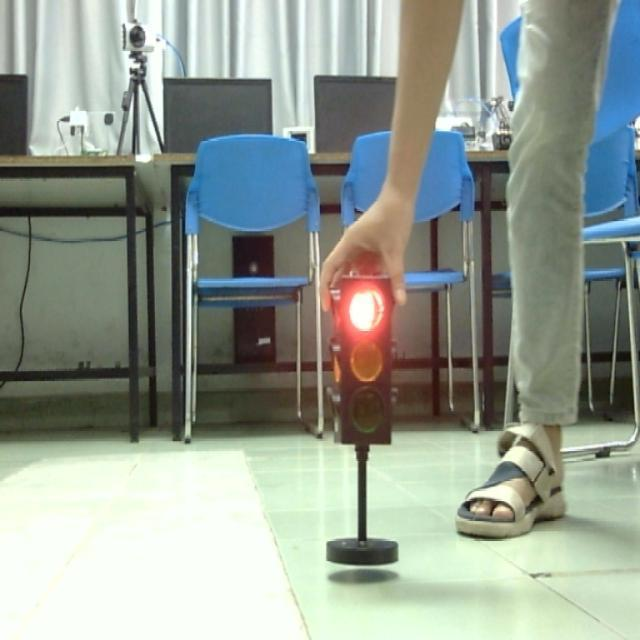red_light: (330, 266, 402, 449)
